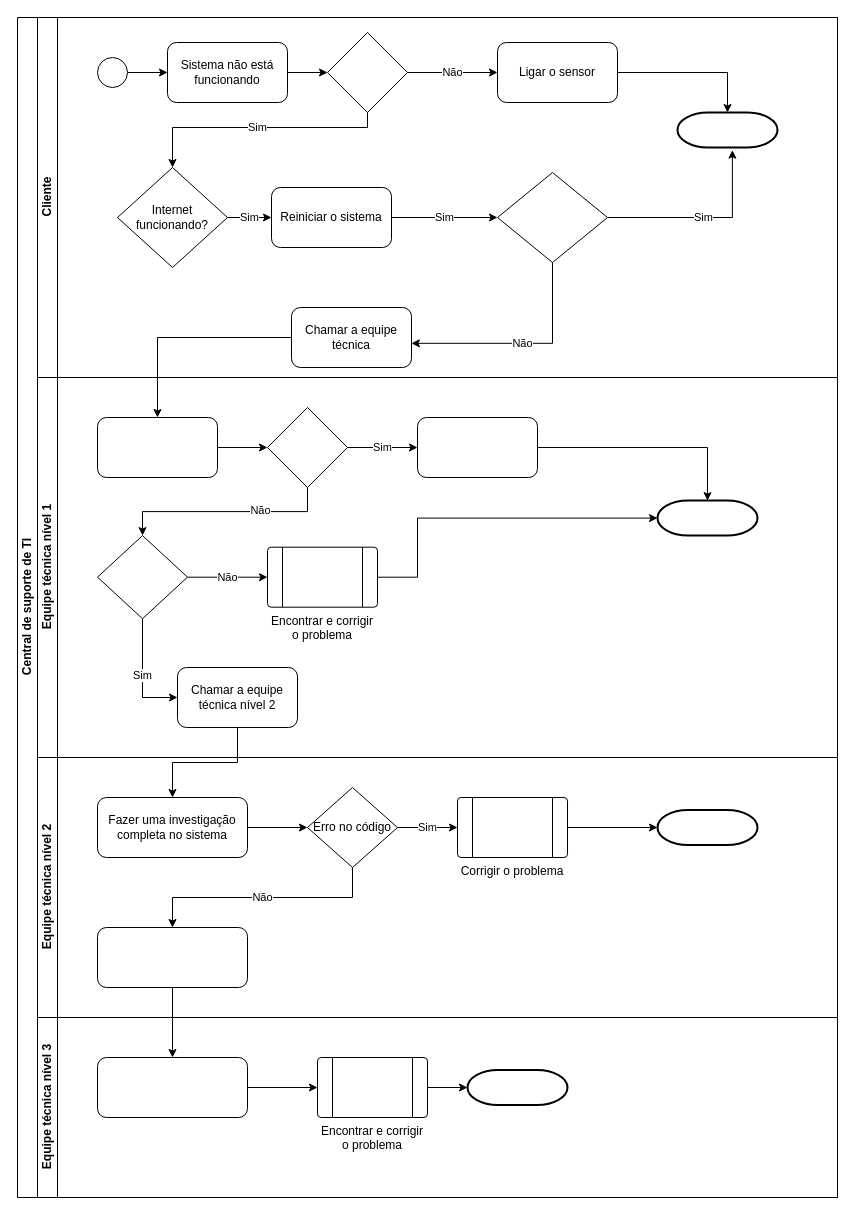
The diagram is 855 pixels wide and 1215 high, and some of its shapes have lost their labels. Here are the shapes that lost their labels. From the top down, the centre of each, then its label:
[367,72]: Sensor ligado?
[552,217]: Sistema voltou a funcionar?
[157,447]: Investigar o problema
[307,447]: Sensor queimado?
[477,447]: Trocar o sensor
[142,577]: BD funcionando?
[172,957]: Chamar a equipe técnica nível 3
[172,1087]: Analisa todo o código do sistema
